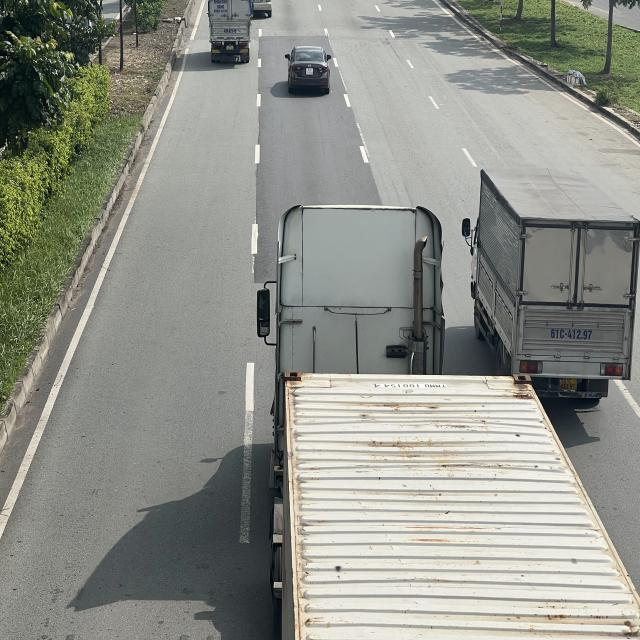car: (286, 44, 334, 93)
container: (255, 205, 624, 640)
truck: (465, 170, 640, 408), (208, 0, 252, 59)
